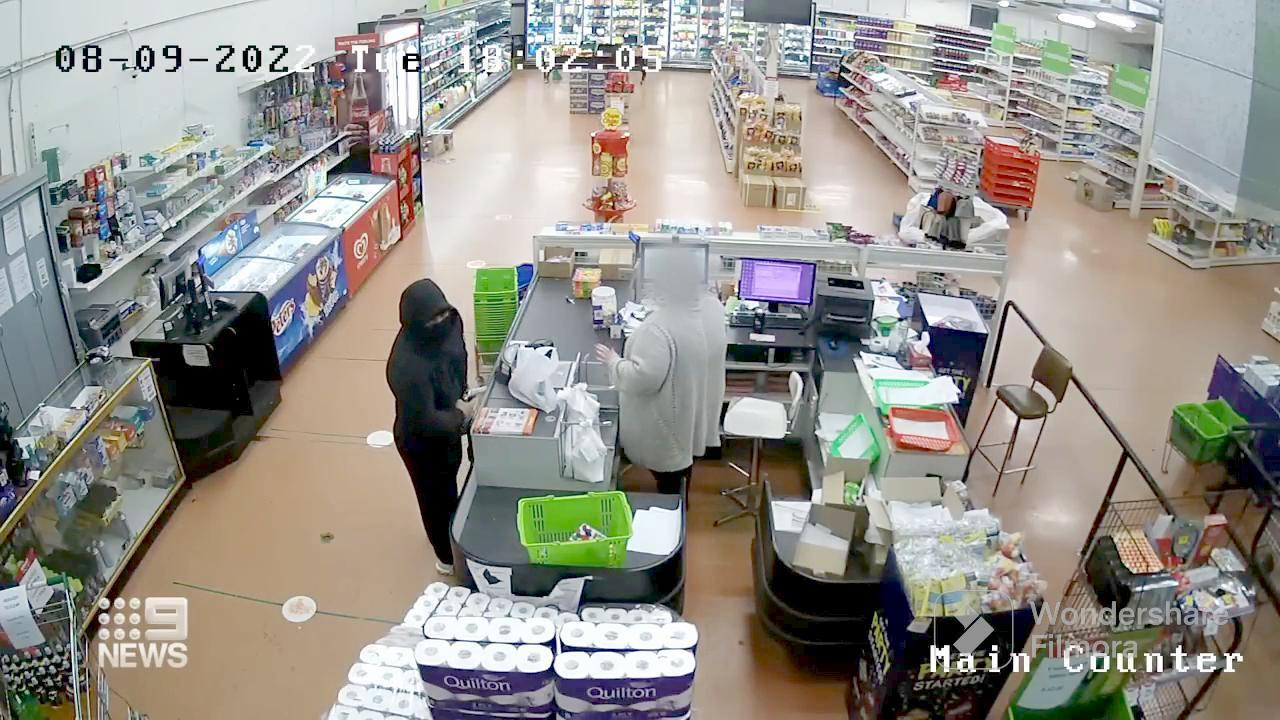gun: (454, 378, 494, 408)
